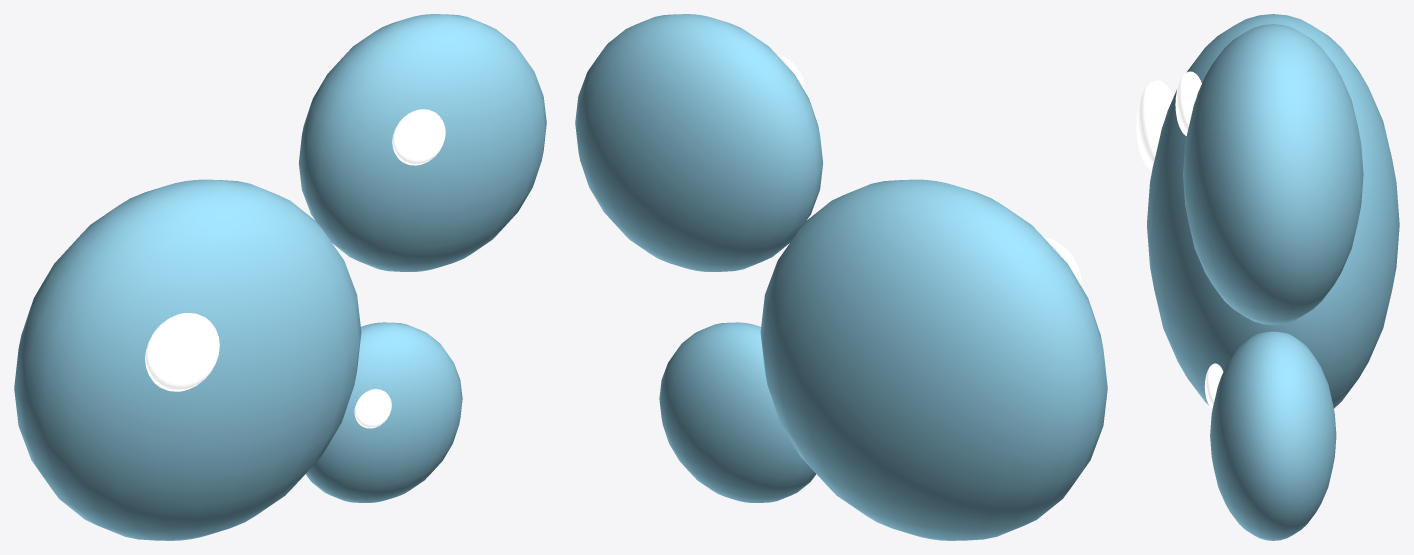
Rendered from icon_need_clean.glb.
3 renders of one model, left to right at view 1: azimuth 30°, elevation 25°; view 2: azimuth 150°, elevation 25°; view 3: azimuth 270°, elevation 25°, orthographic. The views are drawn at different scales.
Visible parts, largest first — view 1: icon_need_clean; view 2: icon_need_clean; view 3: icon_need_clean.
Part boxes in pixels (box(x1,y1,x2,y2)): icon_need_clean: box(14, 14, 546, 540); icon_need_clean: box(575, 14, 1107, 540); icon_need_clean: box(1136, 14, 1399, 540).
Size of the model in its own units: 0.44 by 0.38 by 0.175.
